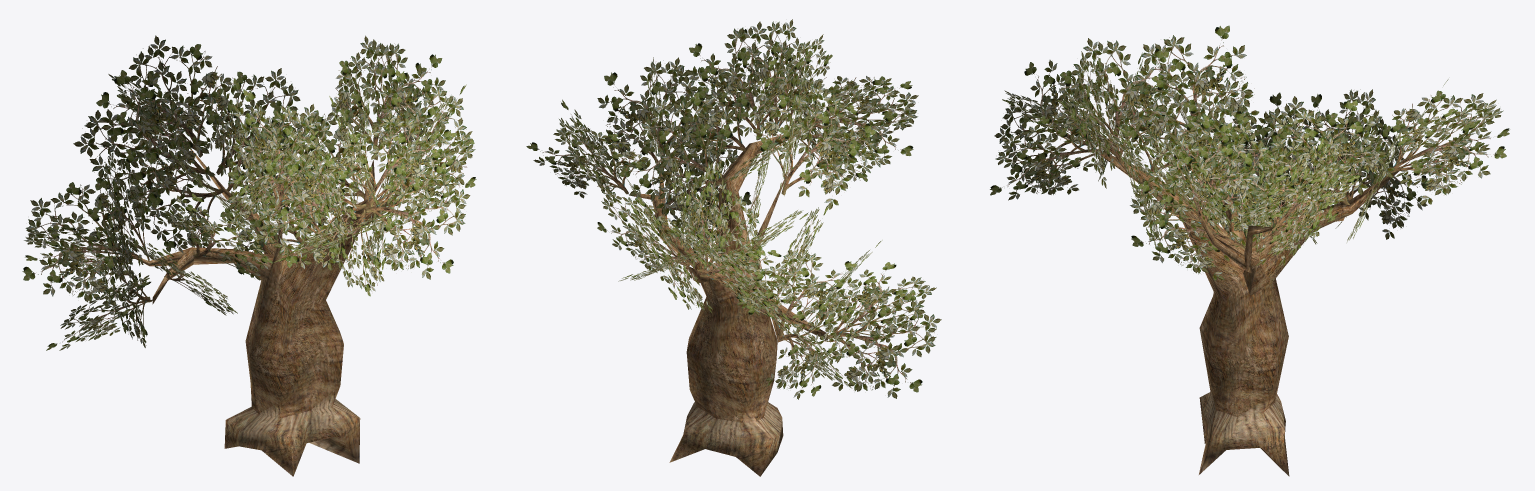
File: decd_blba_tree_a1_l1.fbx
3 views of the same model, side by side, from view 1: azimuth 30°, elevation 25°; view 2: azimuth 150°, elevation 25°; view 3: azimuth 270°, elevation 25° (orthographic). The views are drawn at different scales.
Visible parts, largest first — view 1: mesh_node; view 2: mesh_node; view 3: mesh_node.
Part boxes in pixels (x1,y1,x2,y2): mesh_node: [22, 35, 476, 476]; mesh_node: [526, 19, 941, 476]; mesh_node: [990, 25, 1509, 476].
Size of the model in its own units: 12.17 by 11.45 by 13.3.
